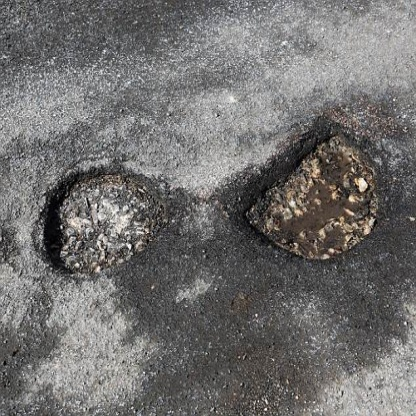pothole: (232, 117, 396, 276), (30, 149, 180, 286)
